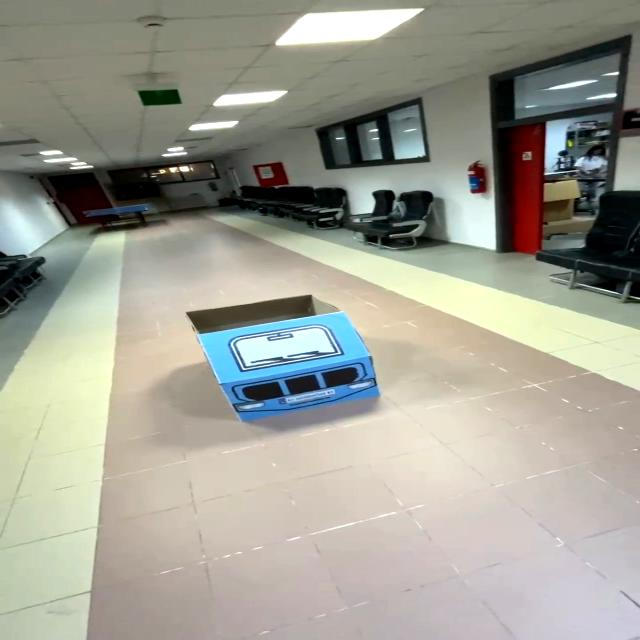blue_car: (176, 282, 400, 436)
